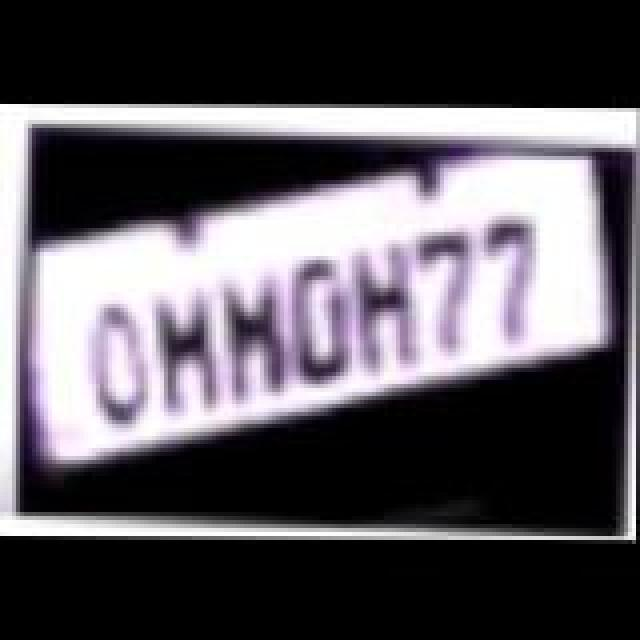7: (404, 230, 488, 358), (474, 214, 554, 346)
D: (278, 256, 366, 388)
H: (342, 238, 430, 374)
M: (144, 290, 236, 418), (214, 276, 302, 408)
O: (80, 304, 164, 432)
